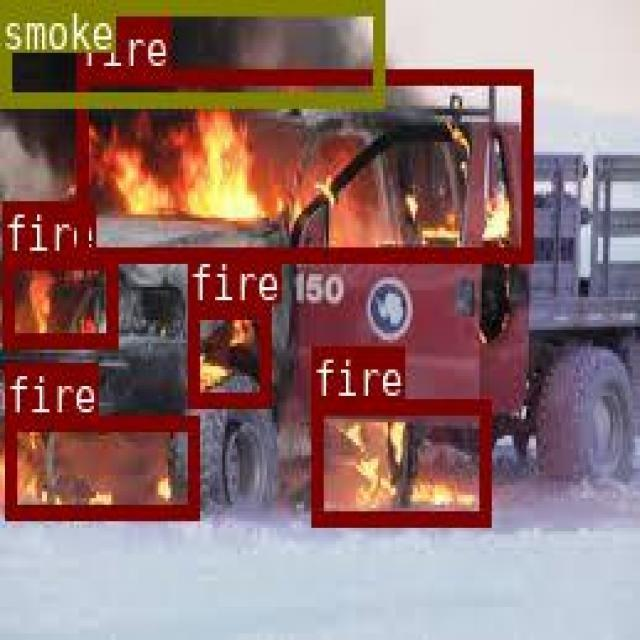fire: (76, 66, 530, 258), (309, 399, 487, 522), (5, 413, 195, 517), (1, 252, 116, 345), (187, 301, 267, 405)
smoke: (0, 0, 381, 106)
